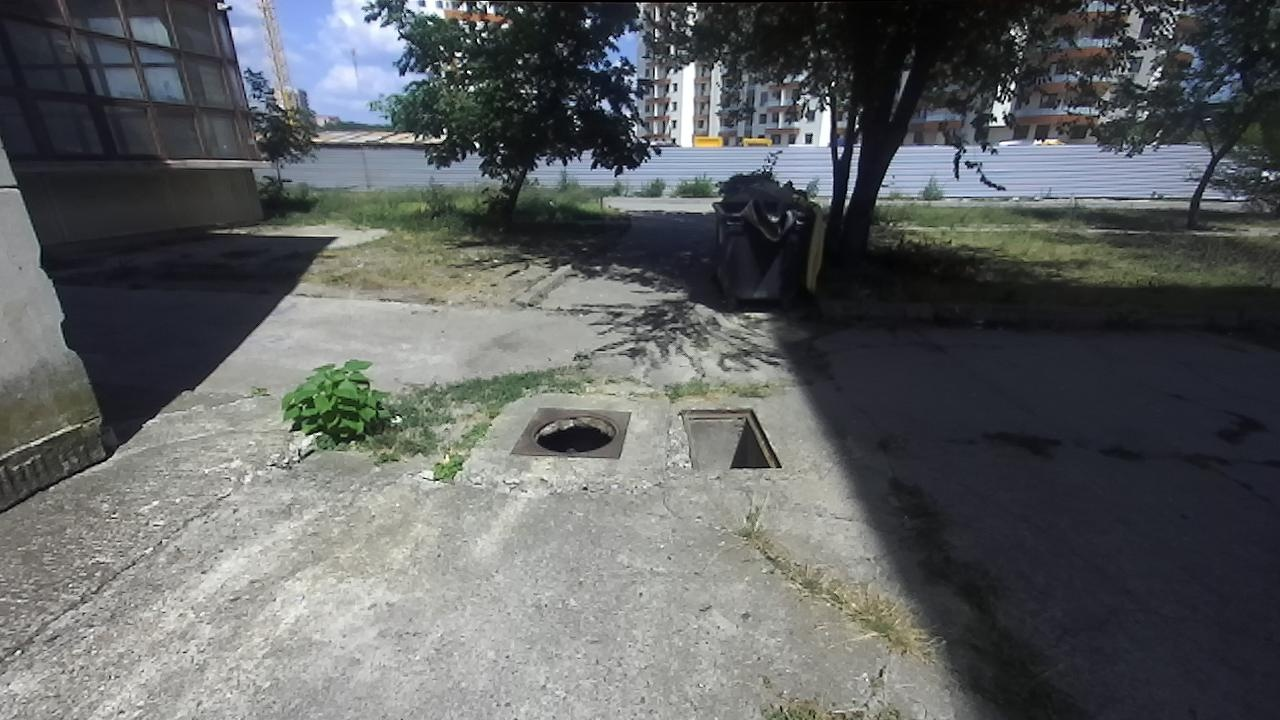drain: (674, 406, 783, 474), (528, 413, 621, 454)
